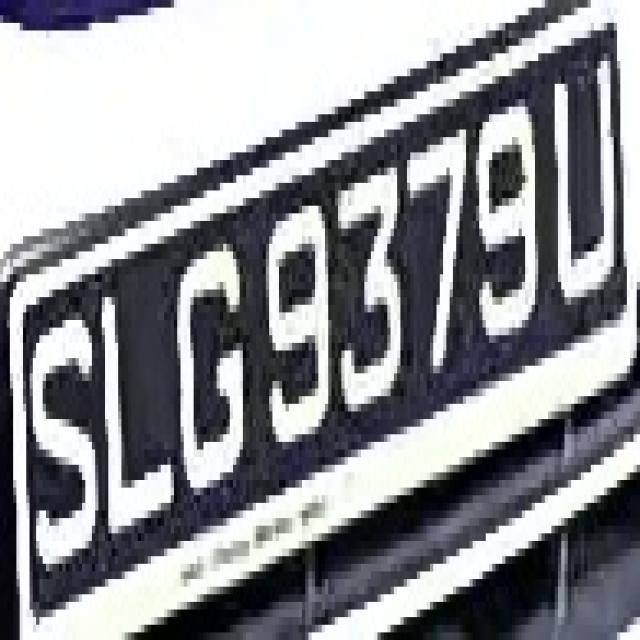3: (334, 168, 404, 464)
7: (403, 152, 472, 381)
9: (473, 46, 538, 381), (256, 183, 331, 449)
G: (174, 214, 259, 496)
L: (92, 274, 174, 526)
S: (20, 297, 99, 602)
U: (535, 46, 620, 335)
